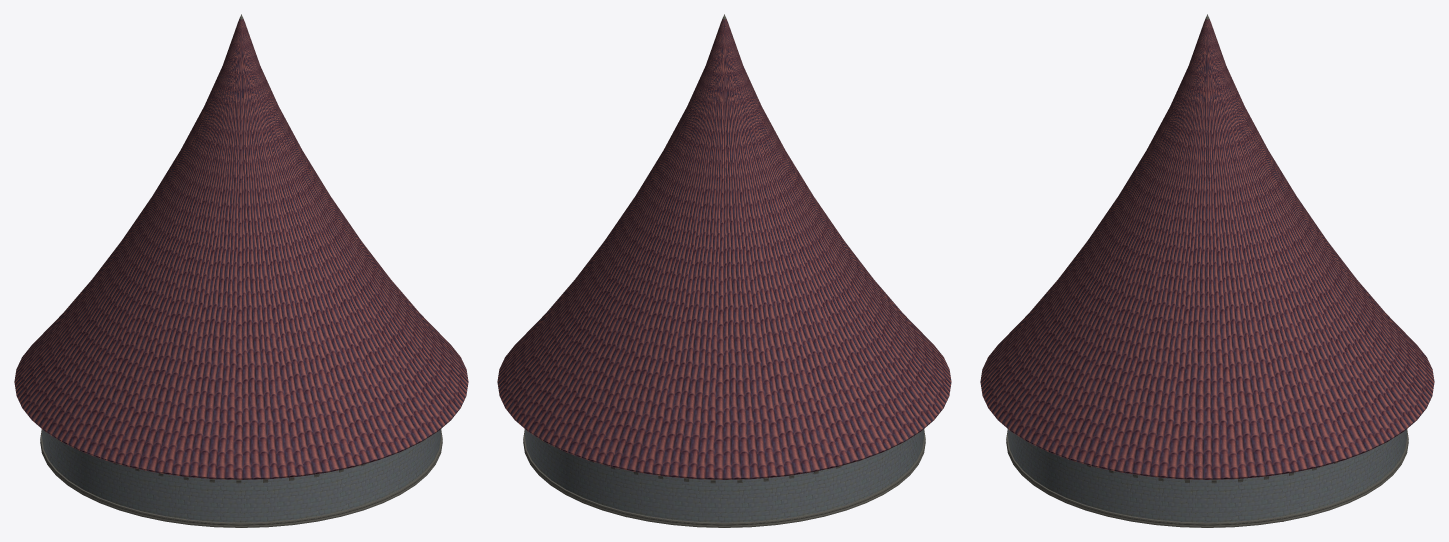
File: TowerTop.fbx
3 renders of one model, left to right at view 1: azimuth 30°, elevation 25°; view 2: azimuth 150°, elevation 25°; view 3: azimuth 270°, elevation 25°, orthographic.
Visible parts, largest first — view 1: TowerTopDefautExport; view 2: TowerTopDefautExport; view 3: TowerTopDefautExport.
Boxes of the visible parts, x1,y1,x2,y2 form: TowerTopDefautExport: (14,14,468,527); TowerTopDefautExport: (497,14,951,527); TowerTopDefautExport: (980,14,1434,527).
Bounding box in the file's own units: 5579 × 5853 × 5579.
